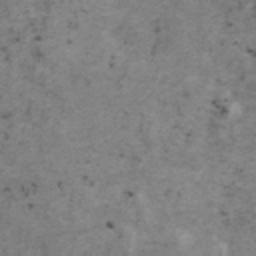Oxide scale of temperature system: (3, 174, 136, 230), (1, 33, 72, 63), (183, 97, 229, 137), (223, 20, 256, 56), (0, 111, 13, 119), (152, 26, 161, 33), (108, 61, 115, 69)
